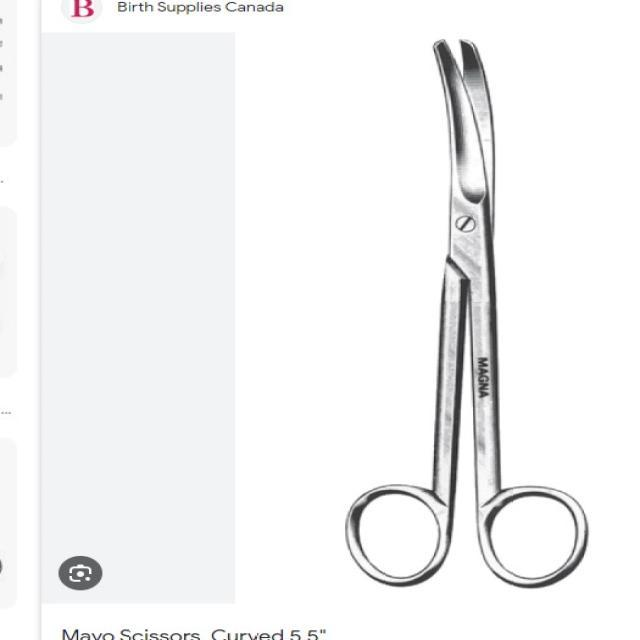Curved Mayo: (340, 32, 590, 590)
